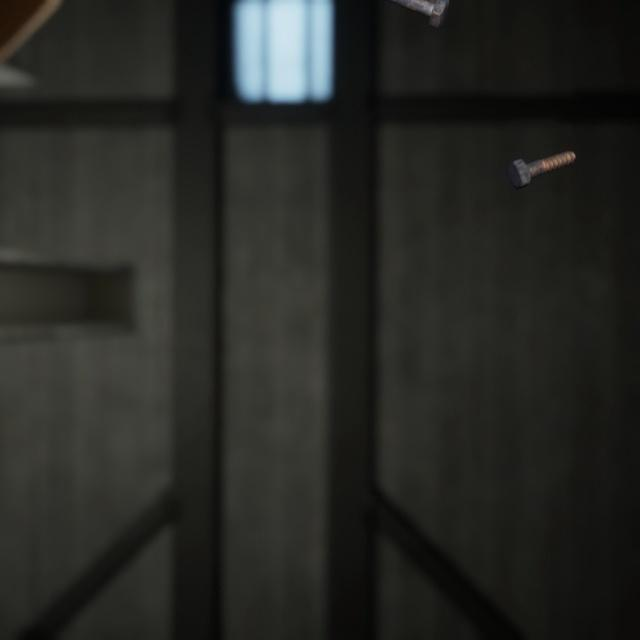bolt: (503, 133, 580, 180), (393, 0, 454, 26)
